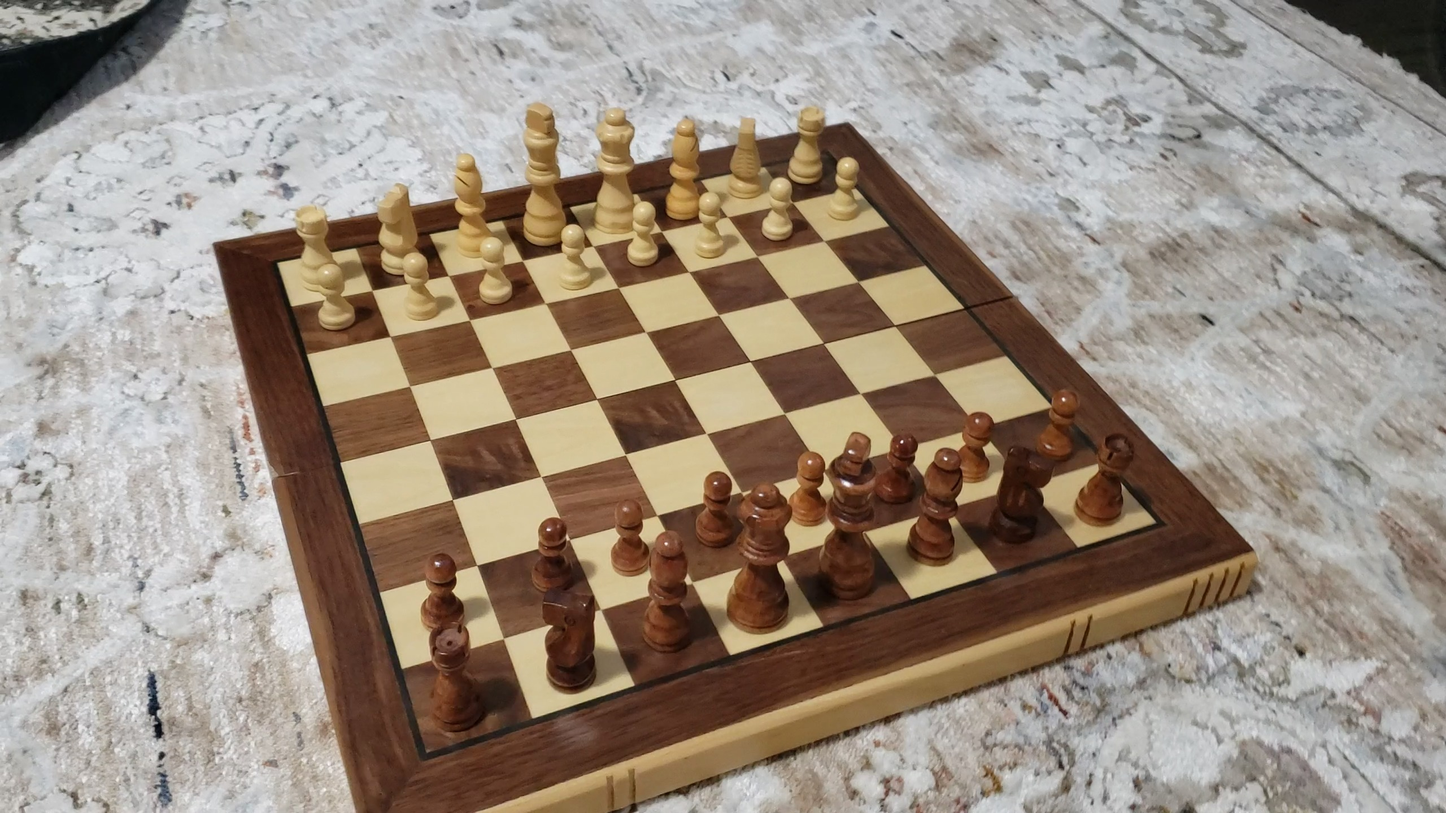black-bishop: (909, 445, 966, 565), (640, 528, 694, 653)
black-king: (816, 427, 883, 601)
black-knight: (537, 585, 601, 694), (986, 444, 1051, 544)
black-pawn: (417, 550, 469, 636), (528, 515, 575, 599), (695, 467, 742, 548), (1035, 384, 1081, 462), (609, 497, 651, 578), (877, 430, 920, 506), (789, 448, 828, 527), (956, 408, 995, 483)
black-queen: (726, 482, 794, 636)
black-rook: (424, 624, 487, 734), (1073, 432, 1138, 526)
white-bishop: (449, 148, 492, 259), (664, 111, 704, 224)
white-king: (519, 95, 568, 251)
white-knight: (374, 180, 420, 279), (727, 111, 764, 200)
white-pawn: (303, 257, 360, 336), (549, 219, 601, 296), (396, 247, 446, 326), (621, 195, 668, 273), (689, 187, 734, 266), (821, 152, 869, 226), (472, 234, 518, 309), (755, 172, 800, 247)
white-queen: (591, 101, 638, 233)
white-rook: (290, 201, 346, 298), (786, 102, 829, 188)
